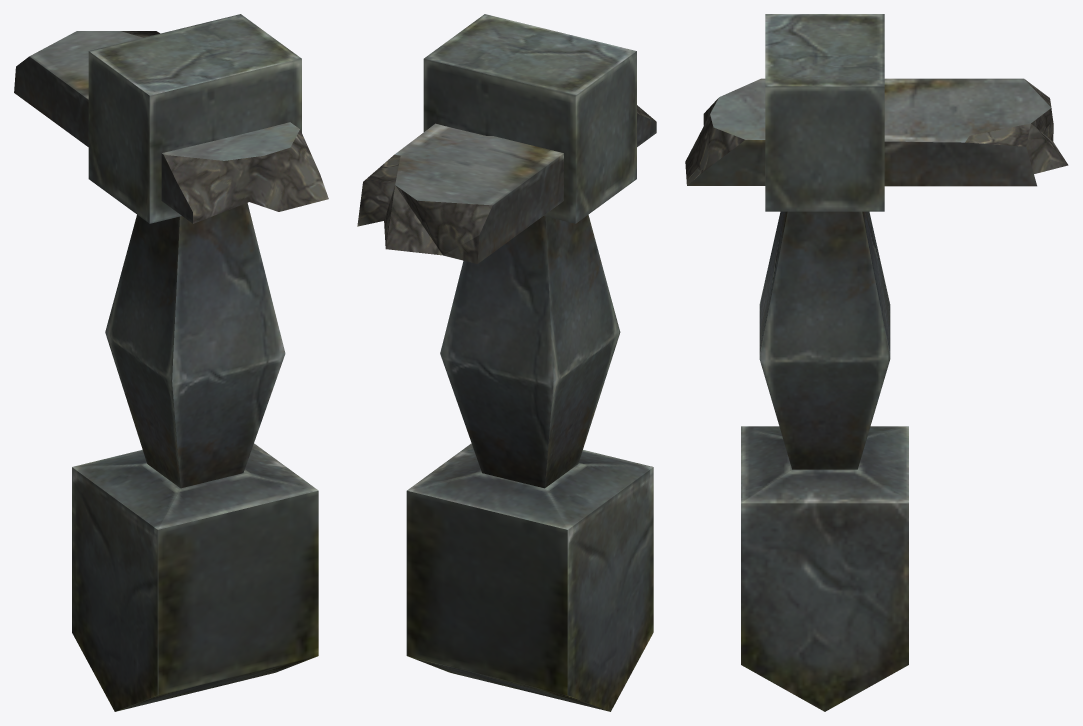
The model's file is F_fushou011.fbx.
3 views of the same model, side by side, from view 1: azimuth 30°, elevation 25°; view 2: azimuth 150°, elevation 25°; view 3: azimuth 270°, elevation 25° (orthographic). The views are drawn at different scales.
Parts seen in each view (by area): view 1: F_fushou011; view 2: F_fushou011; view 3: F_fushou011.
Boxes of the visible parts, x1,y1,x2,y2 form: F_fushou011: (14,14,328,711); F_fushou011: (357,14,656,711); F_fushou011: (685,14,1068,711).
Size of the model in its own units: 37.26 by 141 by 78.58.
